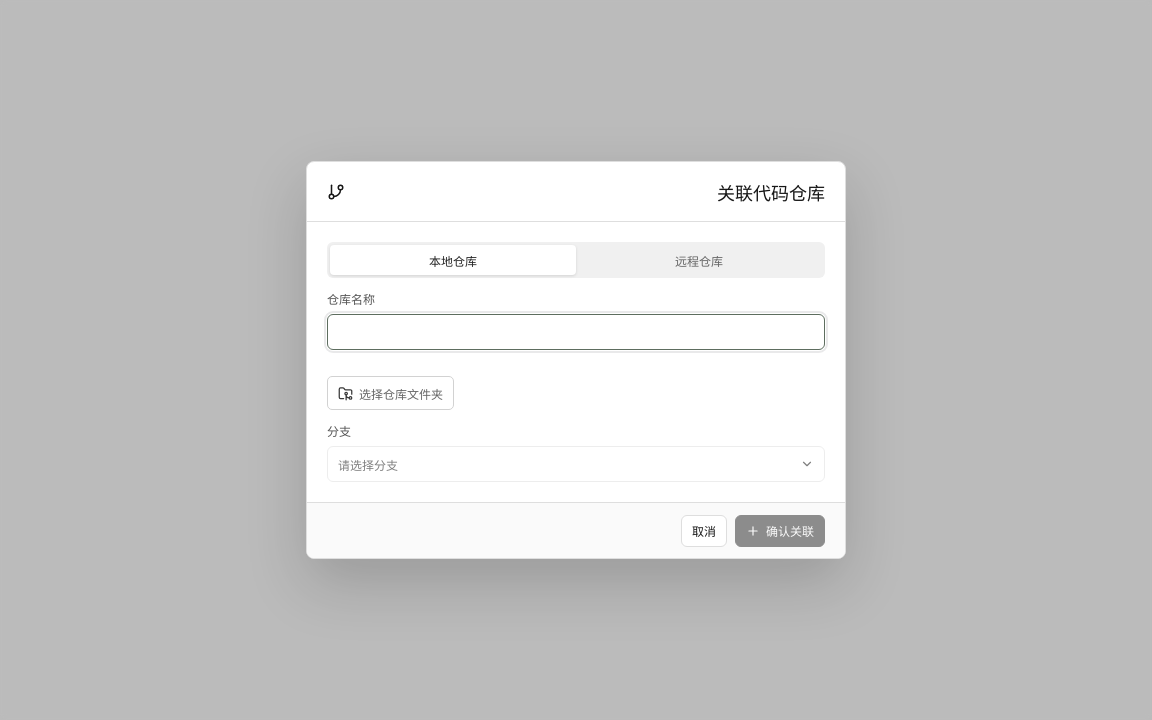
it: RepositorySourceDialog › publishes a safe toast when repository synchronization fails
Click the button "远程仓库" at (699, 260), box left=576, top=245, right=822, bottom=275
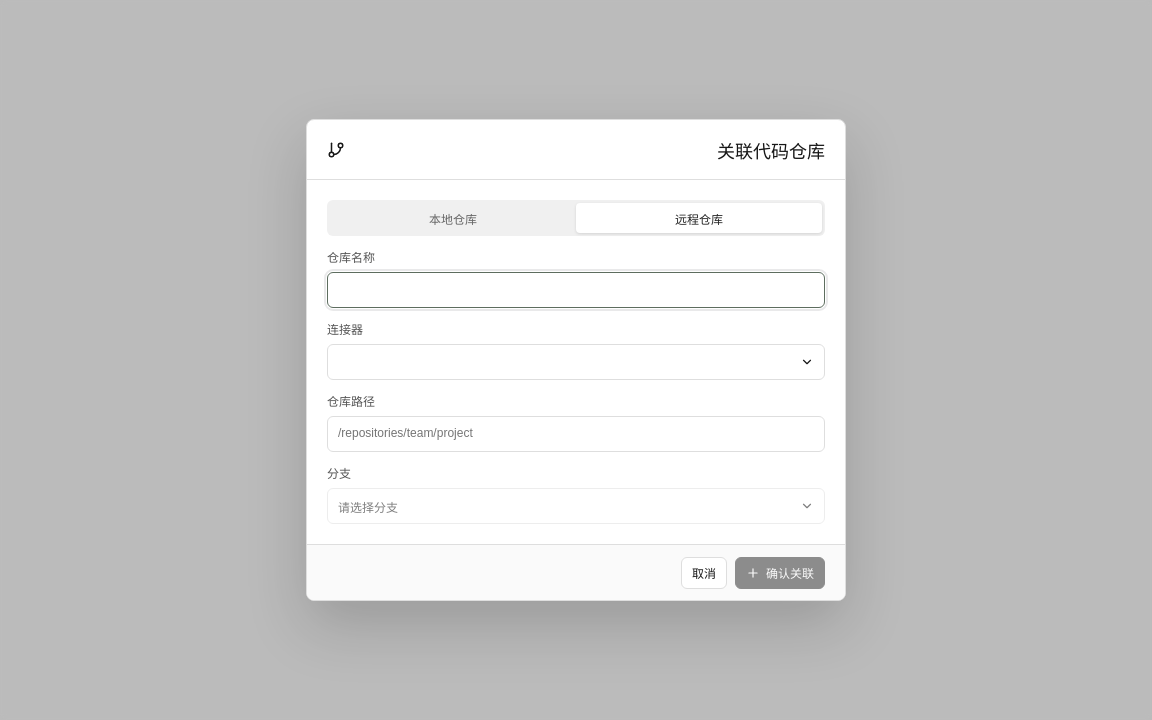
Type "Private repository" into the field labelled "仓库名称" at (576, 290), box left=327, top=272, right=825, bottom=308
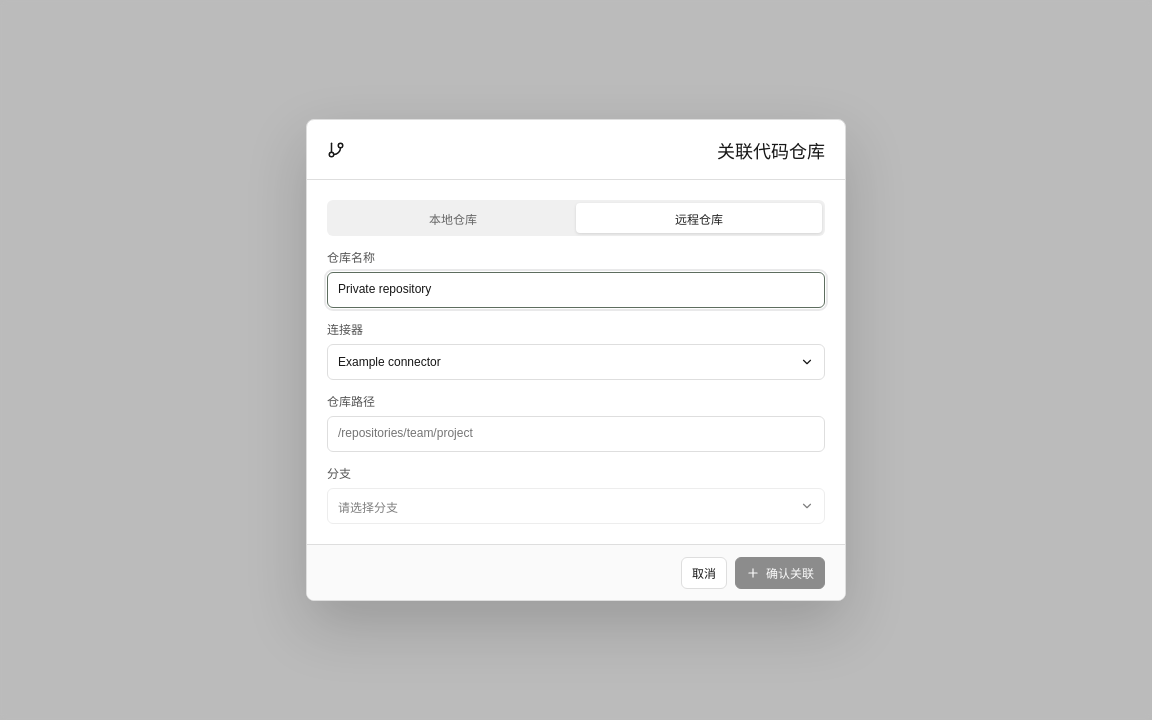
Result: the label "连接器" holds "connector-1" at left=327, top=323, right=363, bottom=337
Type "https://user:password@example.test/private.git" into the field labelled "仓库路径" at (576, 434), box left=327, top=416, right=825, bottom=452
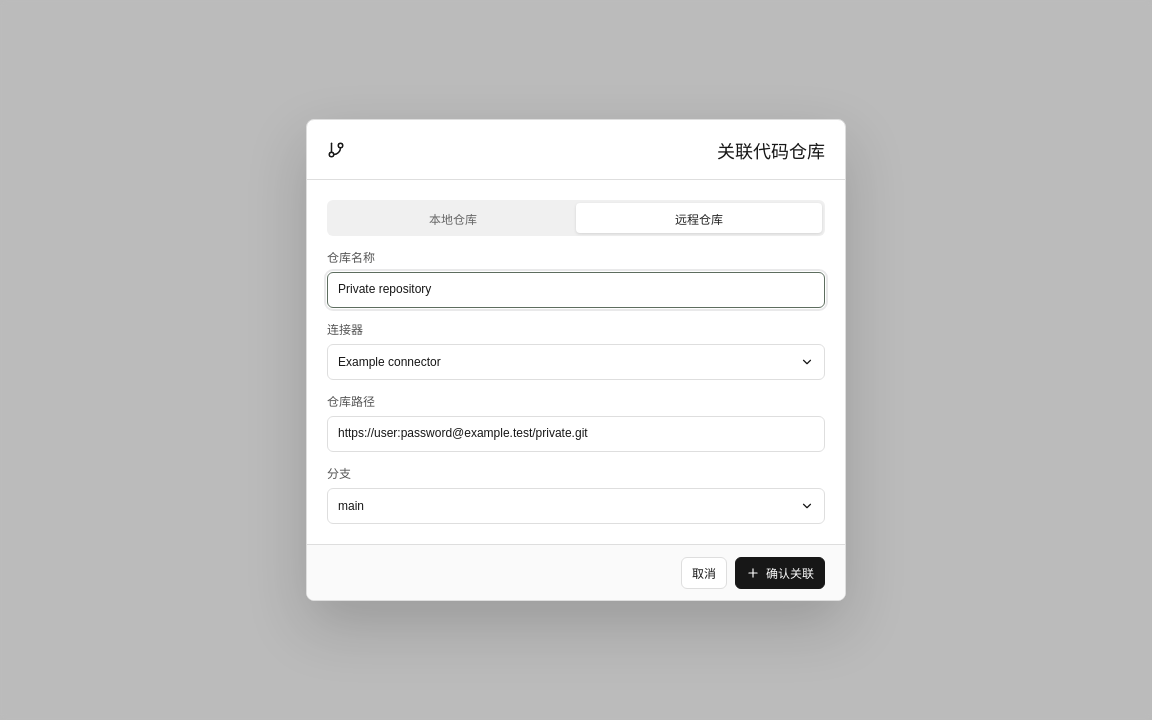
Expected: the label "分支" holds "main", left=327, top=467, right=351, bottom=481
Click the button "确认关联" at (780, 572), box left=735, top=556, right=825, bottom=588
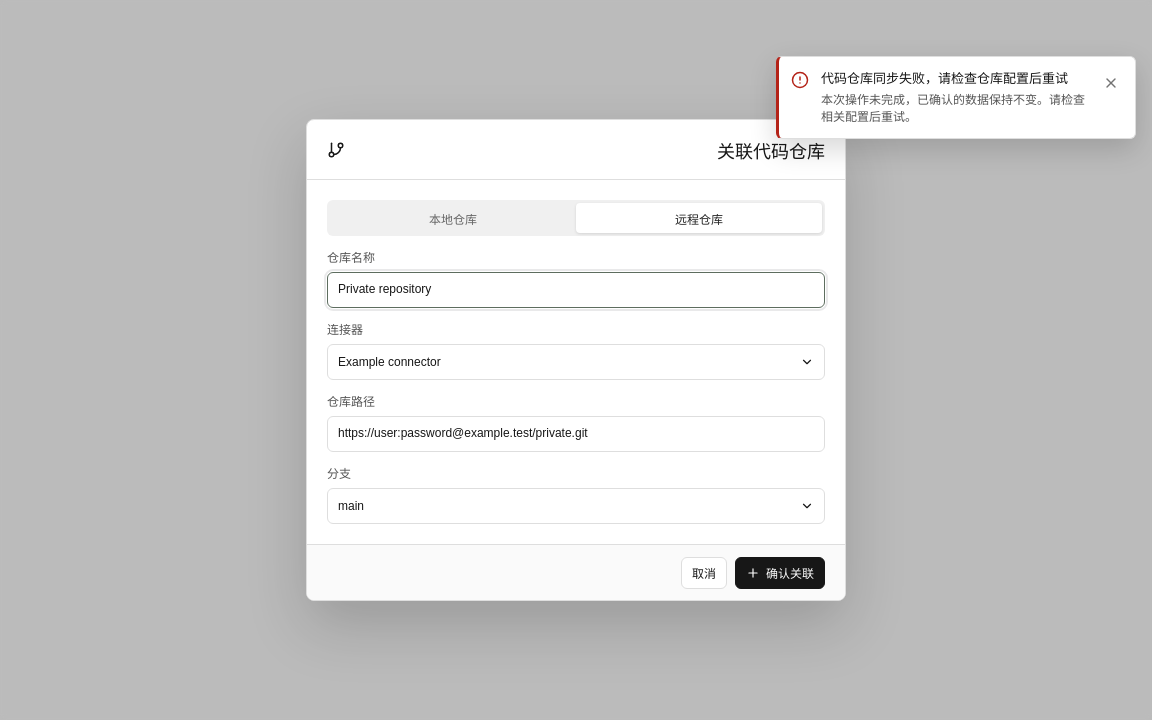
Result: the text "代码仓库同步失败，请检查仓库配置后重试" is shown at left=821, top=69, right=1087, bottom=88
